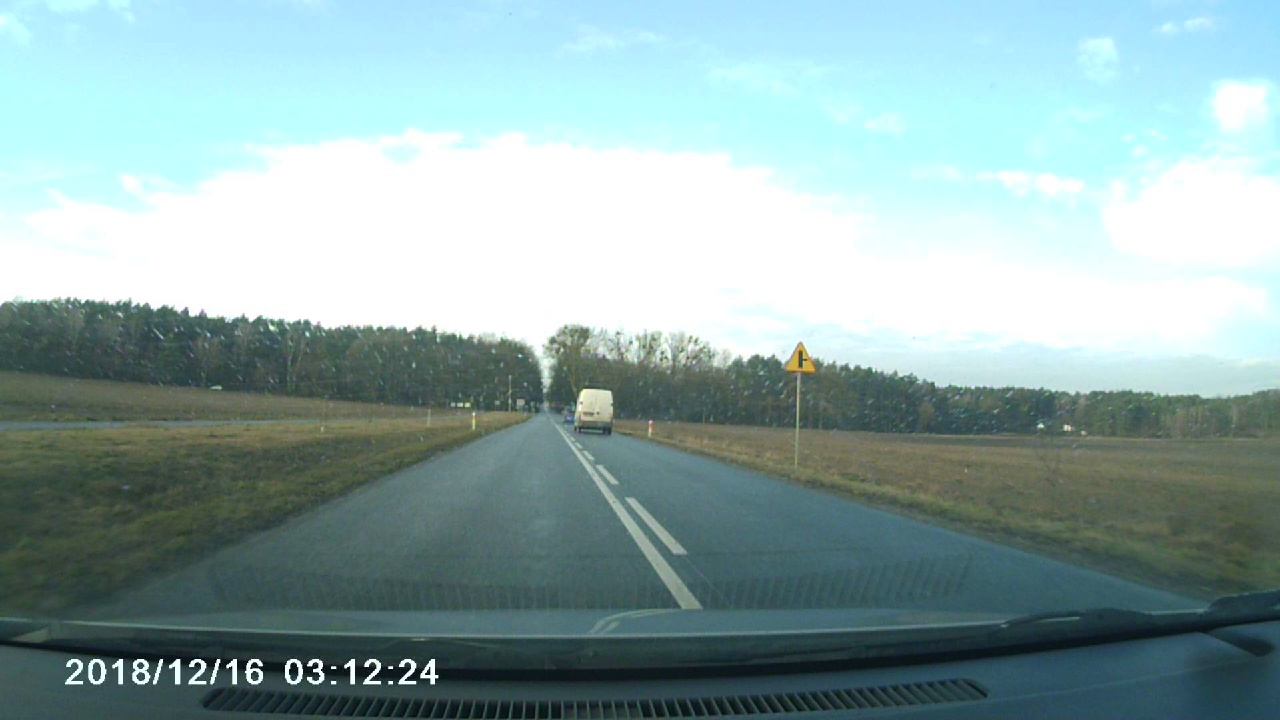A6b: (784, 341, 816, 374)
